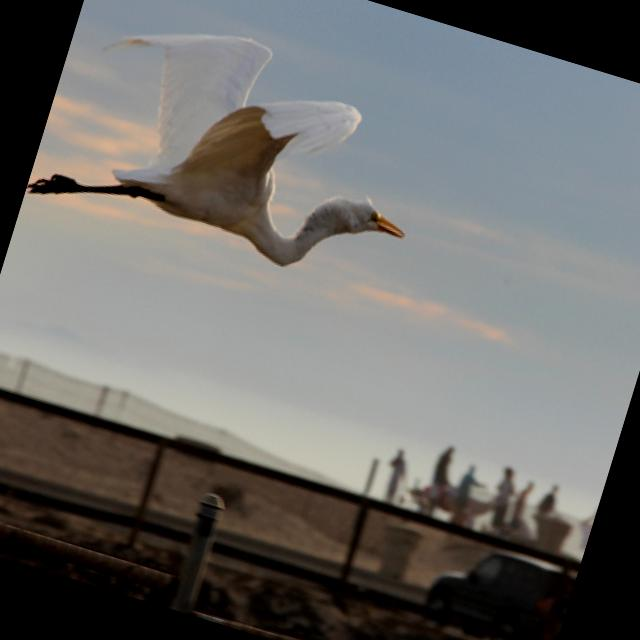Vehicle: (418, 526, 579, 640)
